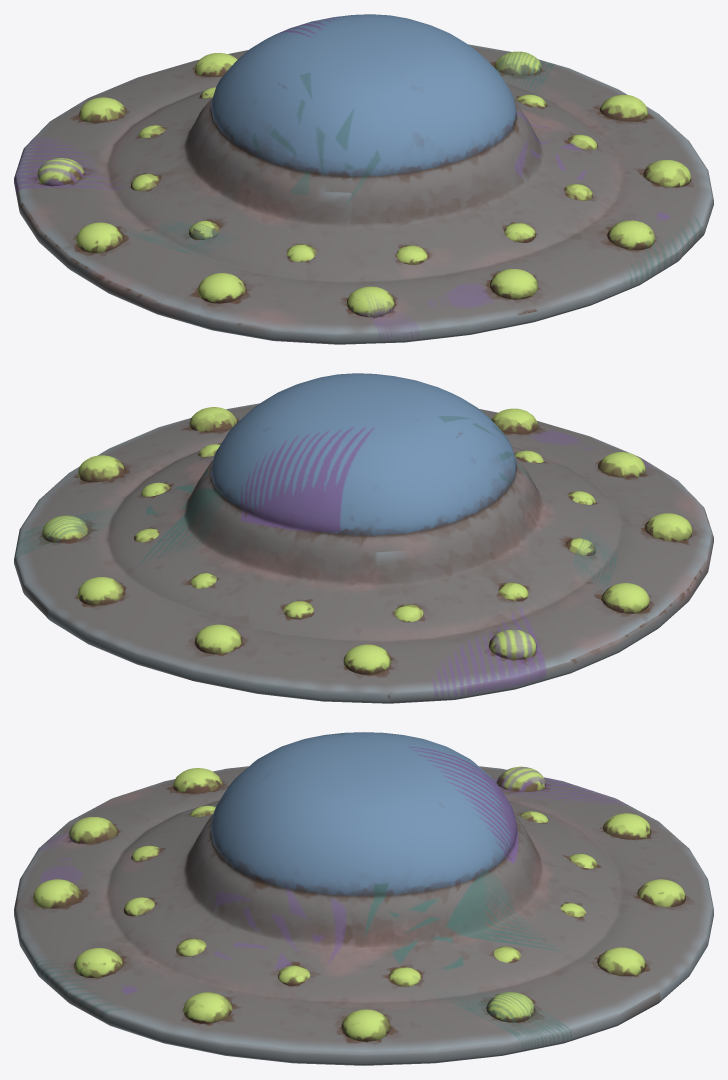
Rendered from toyUFO.obj.
The picture shows the model from 3 angles, top to bottom: view 1: azimuth 30°, elevation 25°; view 2: azimuth 150°, elevation 25°; view 3: azimuth 270°, elevation 25°; orthographic projection. The views are drawn at different scales.
Parts seen in each view (by area): view 1: toyUFO; view 2: toyUFO; view 3: toyUFO.
Boxes of the visible parts, x1=… form: toyUFO: x1=14, y1=14, x2=713, y2=344; toyUFO: x1=14, y1=373, x2=713, y2=703; toyUFO: x1=14, y1=732, x2=713, y2=1065.
Size of the model in its own units: 0.1668 by 0.0585 by 0.1668.
Materials: 1 (1 with a texture image).
